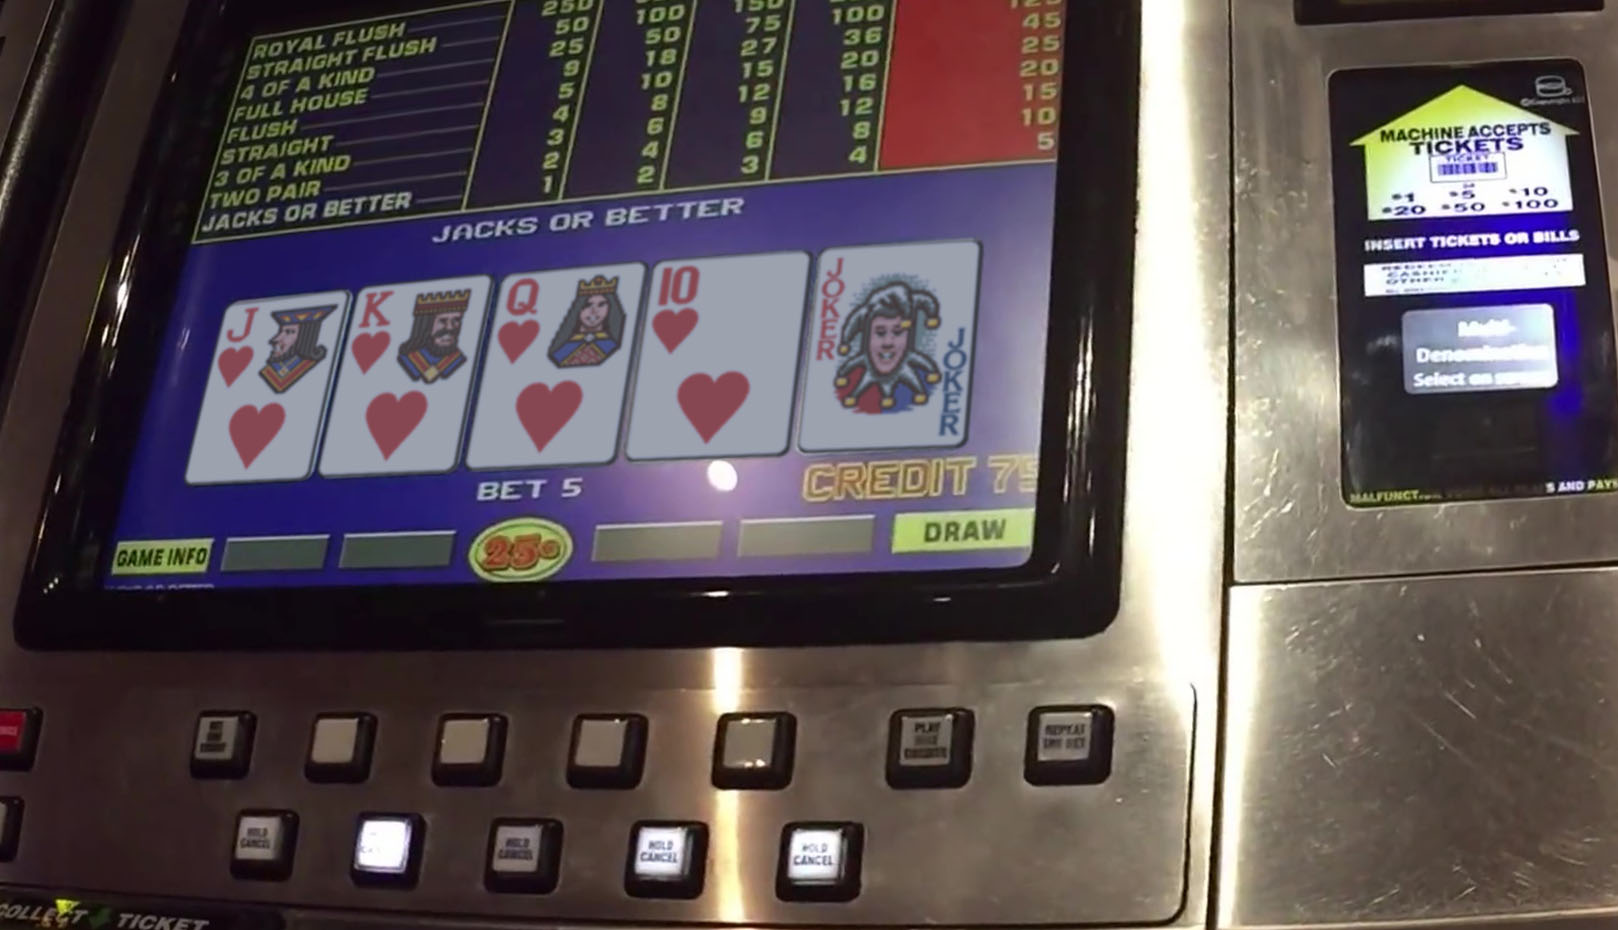HJ: (214, 296, 334, 477)
HK: (344, 280, 477, 471)
HQ: (485, 268, 635, 464)
HT: (645, 256, 792, 460)
joker: (821, 248, 965, 444)
